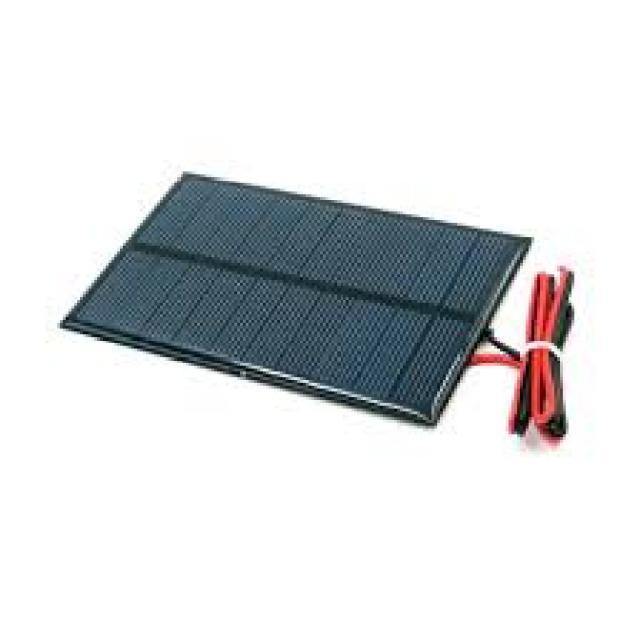no faulty: (65, 170, 531, 413)
